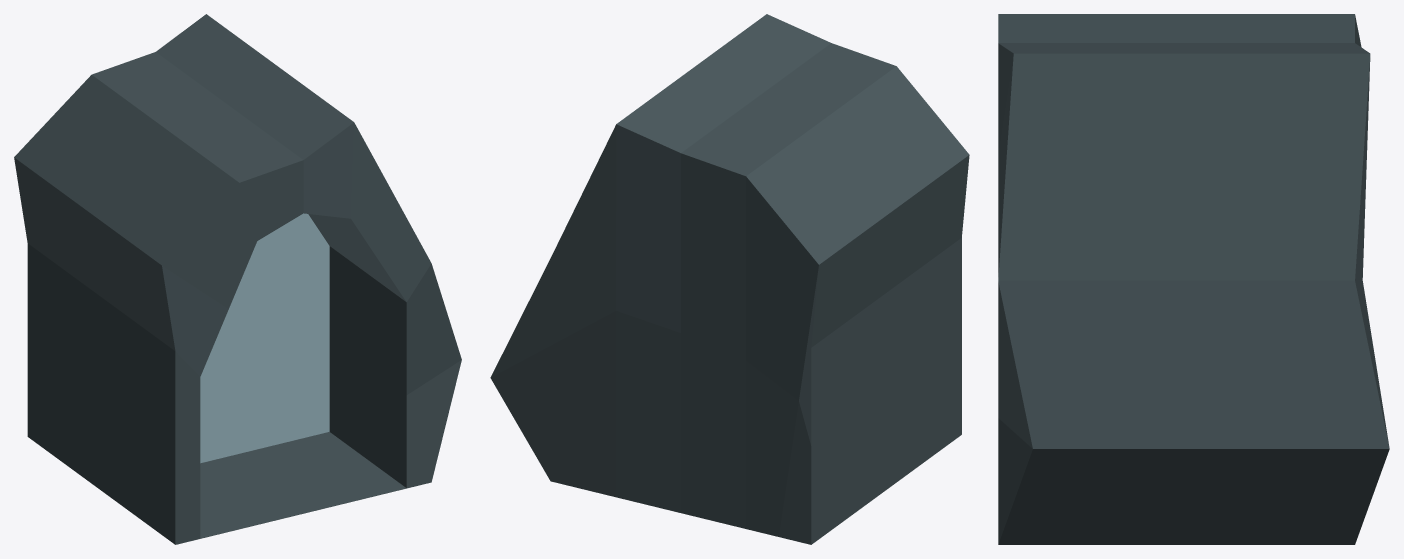
The model's file is cueva.fbx.
3 renders of one model, left to right at view 1: azimuth 30°, elevation 25°; view 2: azimuth 150°, elevation 25°; view 3: azimuth 270°, elevation 25°, orthographic. The views are drawn at different scales.
Visible parts, largest first — view 1: Cube; view 2: Cube; view 3: Cube.
Part boxes in pixels (x1,y1,x2,y2): Cube: (14,14,461,544); Cube: (490,14,969,544); Cube: (998,14,1389,544).
Bounding box in the file's own units: 462 × 529 × 417.
